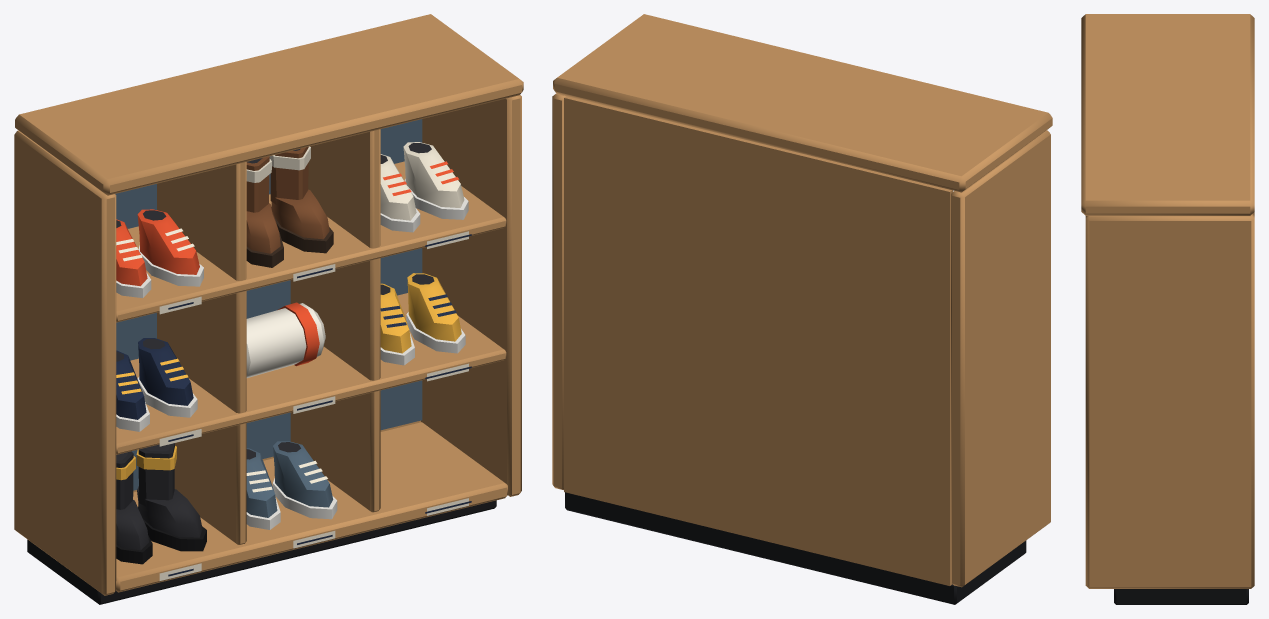
The model's file is Lobby_ShoeCubby.fbx.
3 views of the same model, side by side, from view 1: azimuth 30°, elevation 25°; view 2: azimuth 150°, elevation 25°; view 3: azimuth 270°, elevation 25° (orthographic). The views are drawn at different scales.
Parts seen in each view (by area): view 1: Shelf, BackLiner, Shoes1, Shoes4, Shoes6, Shoes11, Shoes2, Shoes8, Kick, Shoes7, Shoes12, Shoes9 (+5 smaller); view 2: Shelf, Kick; view 3: Shelf, Kick.
Part boxes in pixels (x1,y1,x2,y2): Shelf: [14, 14, 523, 595]; BackLiner: [115, 119, 422, 490]; Shoes1: [116, 179, 468, 529]; Shoes4: [116, 142, 464, 492]; Shoes6: [246, 147, 329, 253]; Shoes11: [116, 443, 202, 550]; Shoes2: [116, 161, 459, 366]; Shoes8: [116, 273, 461, 480]; Kick: [27, 500, 496, 604]; Shoes7: [116, 294, 456, 419]; Shoes12: [246, 441, 333, 517]; Shoes9: [246, 303, 325, 377]; Shelf: [552, 14, 1052, 587]; Kick: [565, 492, 1026, 604]; Shelf: [1081, 14, 1254, 588]; Kick: [1114, 589, 1248, 604].
Size of the model in its own units: 400 by 400 by 154.
